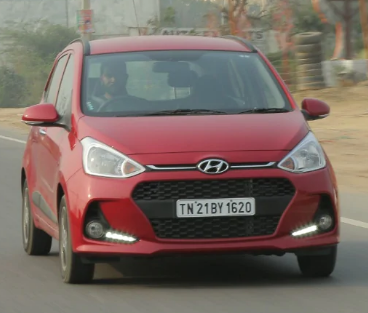car: (10, 31, 349, 287)
